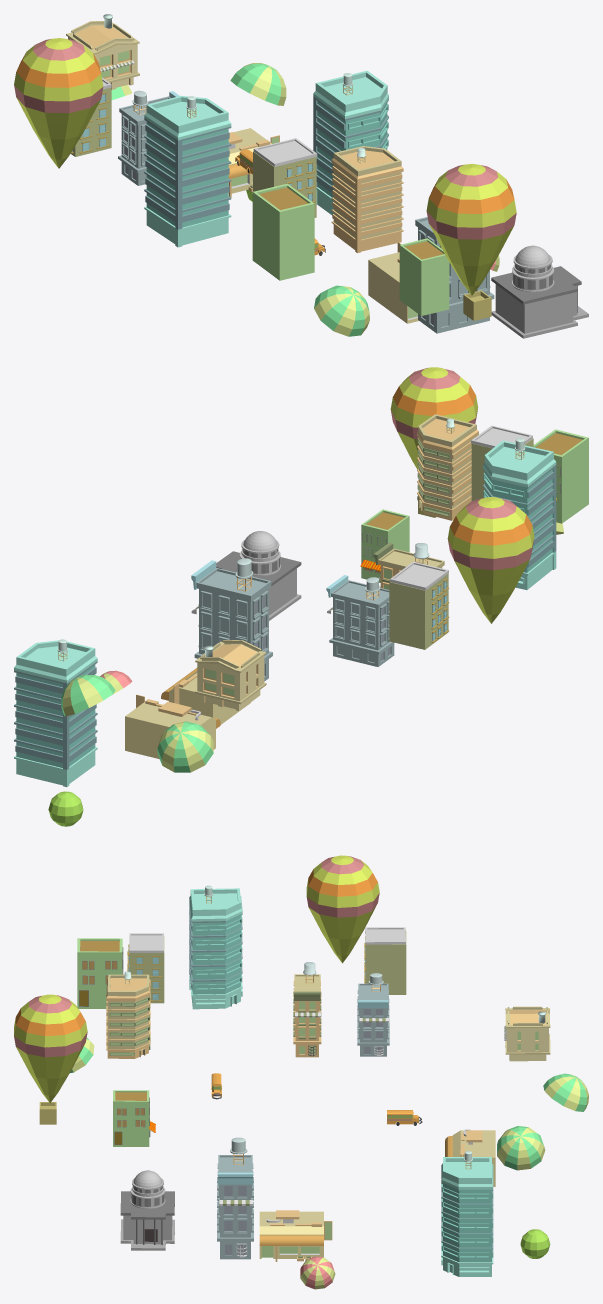
File: yellow houses.fbx
The picture shows the model from 3 angles, top to bottom: view 1: azimuth 30°, elevation 25°; view 2: azimuth 150°, elevation 25°; view 3: azimuth 270°, elevation 25°; orthographic projection. The views are drawn at different scales.
Parts seen in each view (by area): view 1: Plane.001, 球体.017, 球体.012, Cube.133, Plane.008, 柱体.017, Cube.027, Cube.039, 立方体.001, Cube.134, WaterTowerTop.002, 球体.005 (+6 smaller); view 2: Plane.008, 球体.012, Plane.001, WaterTowerTop.004, Cube.133, WaterTowerTop.002, 立方体.002, 球体.017, Cube.134, 柱体.017, Cube.027, Cube.002 (+7 smaller); view 3: Plane.001, Plane.008, 球体.017, 球体.012, WaterTowerTop.004, Cube.133, 柱体.017, Cube.069, Cube.027, 立方体.002, Cube.023, WaterTowerTop.002 (+8 smaller).
Part boxes in pixels (bbox=[...]): Plane.001: bbox=[144, 96, 231, 247]; 球体.017: bbox=[426, 163, 516, 295]; 球体.012: bbox=[14, 38, 103, 168]; Cube.133: bbox=[331, 146, 403, 253]; Plane.008: bbox=[313, 70, 388, 215]; 柱体.017: bbox=[491, 245, 588, 338]; Cube.027: bbox=[252, 183, 314, 280]; Cube.039: bbox=[399, 238, 449, 315]; 立方体.001: bbox=[253, 138, 317, 217]; Cube.134: bbox=[66, 14, 139, 89]; WaterTowerTop.002: bbox=[118, 90, 179, 185]; 球体.005: bbox=[314, 285, 369, 336]; Plane.008: bbox=[14, 639, 97, 787]; 球体.012: bbox=[447, 497, 534, 623]; Plane.001: bbox=[483, 438, 556, 589]; WaterTowerTop.004: bbox=[191, 558, 272, 681]; Cube.133: bbox=[417, 414, 478, 520]; WaterTowerTop.002: bbox=[326, 575, 394, 666]; 立方体.002: bbox=[389, 561, 449, 649]; 球体.017: bbox=[390, 367, 478, 469]; Cube.134: bbox=[195, 640, 266, 710]; 柱体.017: bbox=[216, 531, 301, 620]; Cube.027: bbox=[533, 429, 588, 523]; Cube.002: bbox=[125, 694, 220, 758]; Plane.001: bbox=[189, 885, 242, 1009]; Plane.008: bbox=[441, 1151, 493, 1276]; 球体.017: bbox=[14, 994, 87, 1102]; 球体.012: bbox=[306, 855, 379, 963]; WaterTowerTop.004: bbox=[217, 1137, 253, 1259]; Cube.133: bbox=[106, 971, 150, 1058]; 柱体.017: bbox=[120, 1170, 174, 1250]; Cube.069: bbox=[259, 1210, 332, 1261]; Cube.027: bbox=[77, 938, 123, 1008]; 立方体.002: bbox=[364, 927, 406, 994]; Cube.023: bbox=[293, 962, 321, 1057]; WaterTowerTop.002: bbox=[357, 973, 389, 1056].
Size of the model in its own units: 1364 by 924 by 1785.
